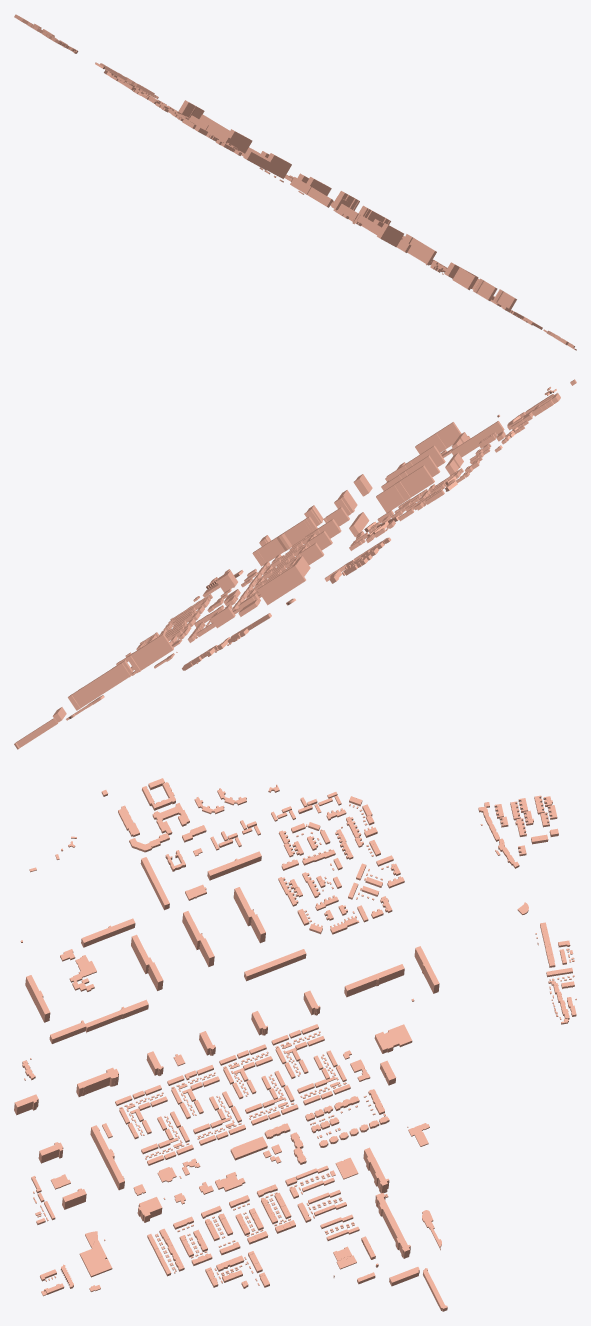
3 renders of one model, top to bottom at view 1: azimuth 30°, elevation 25°; view 2: azimuth 150°, elevation 25°; view 3: azimuth 270°, elevation 25°, orthographic. The views are drawn at different scales.
Size of the model in its own units: 998 by 808 by 1205.
